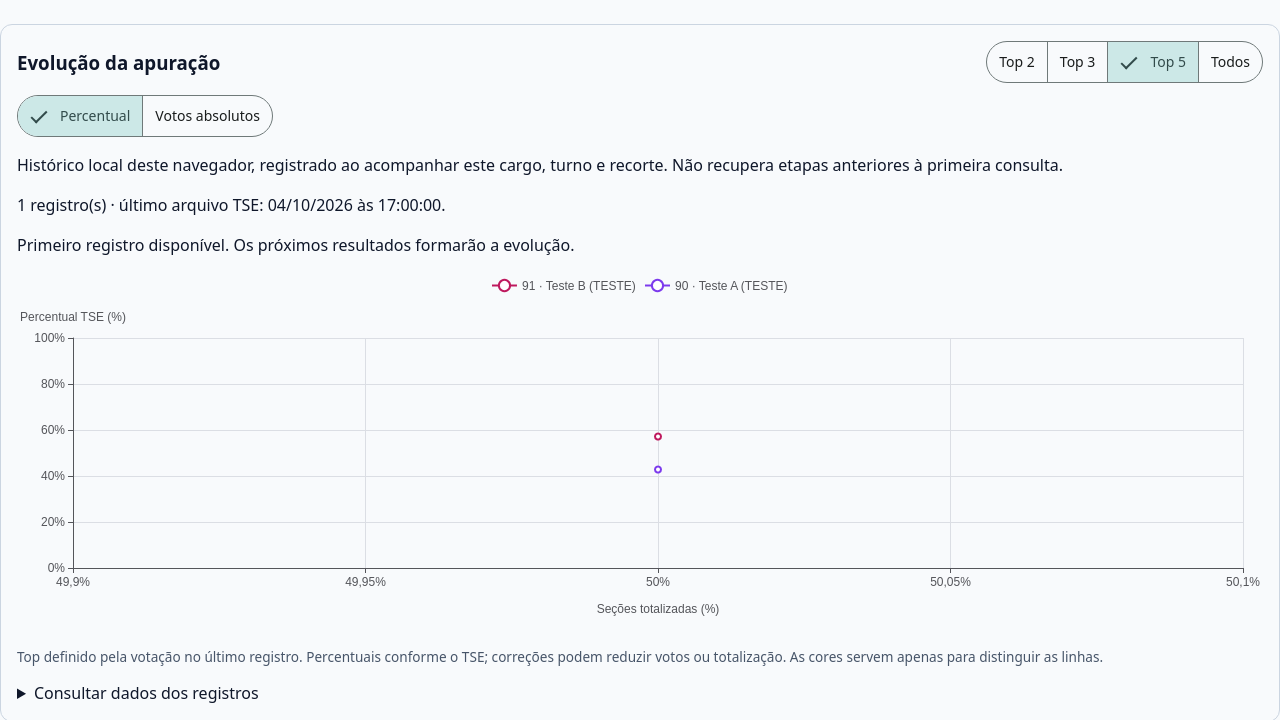
Test: Election evolution panel › switches the rendered chart to absolute votes and back without reading history or changing the selected candidates
Click the radio button labelled "Votos absolutos" at (208, 116), box [143,96,272,136]
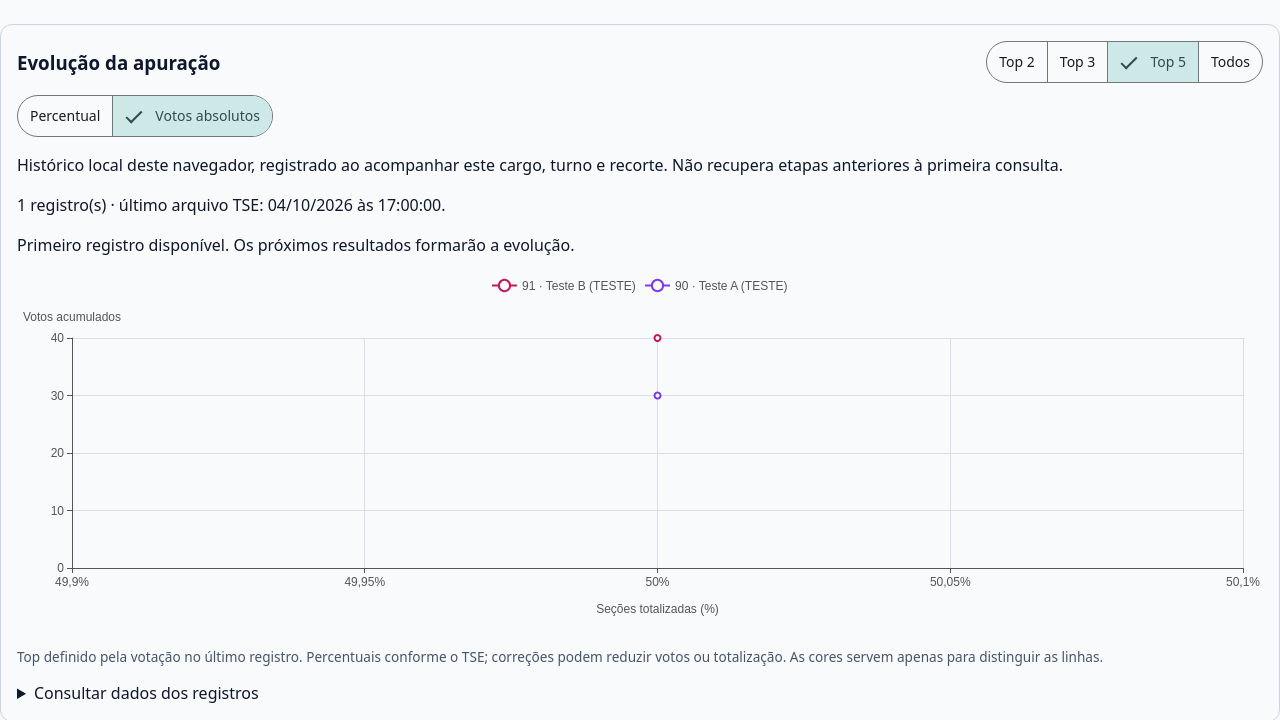
Expected: the picture with class "chart" shows "Votos acumulados", [23,310,121,324]
Expected: the icon with class "chart" no longer shows "Percentual TSE (%)"
Click the radio button labelled "Percentual" at (65, 116), box [18,96,112,136]
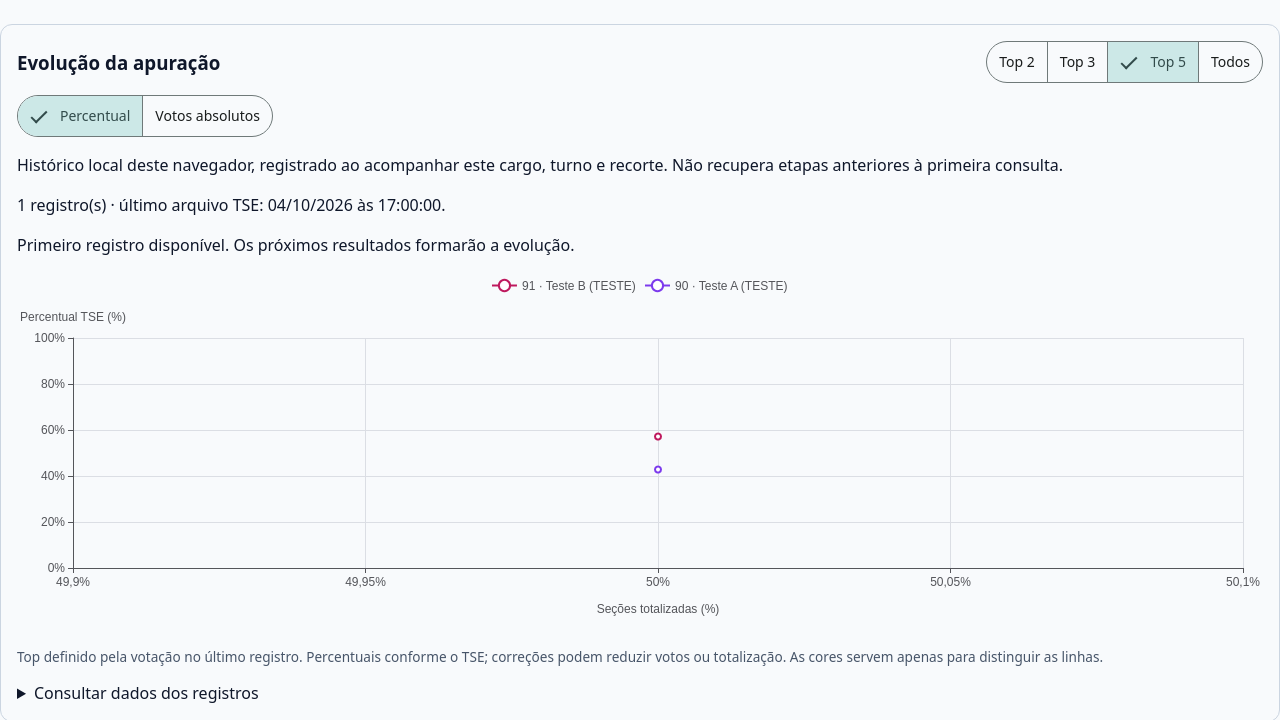
Expected: the picture with class "chart" shows "Percentual TSE (%)", [20,310,126,324]
